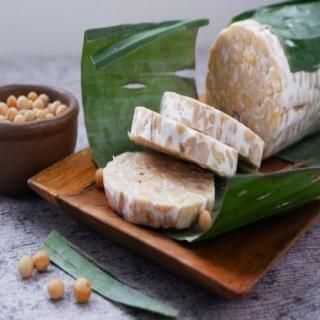Tempe: (103, 9, 320, 235)
